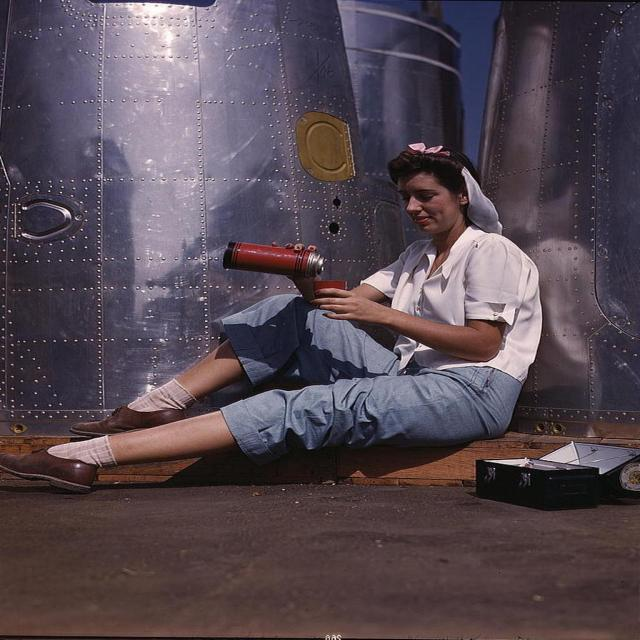Face: (391, 173, 471, 235)
